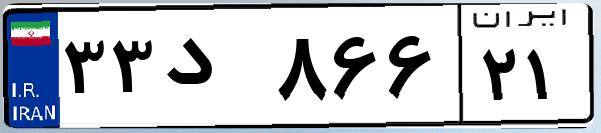1: (525, 38, 570, 115)
2: (475, 38, 525, 113)
3: (57, 26, 110, 100), (110, 28, 158, 98)
6: (385, 28, 445, 110), (330, 28, 385, 110)
8: (270, 28, 330, 110)
د: (158, 20, 270, 120)
